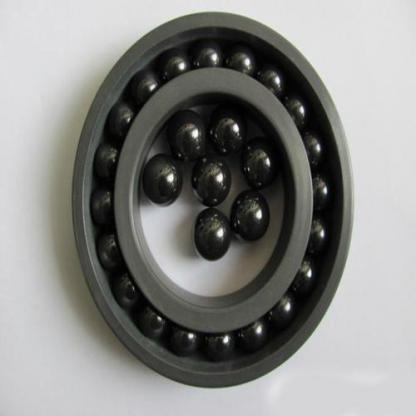FOD: (67, 8, 360, 395)
